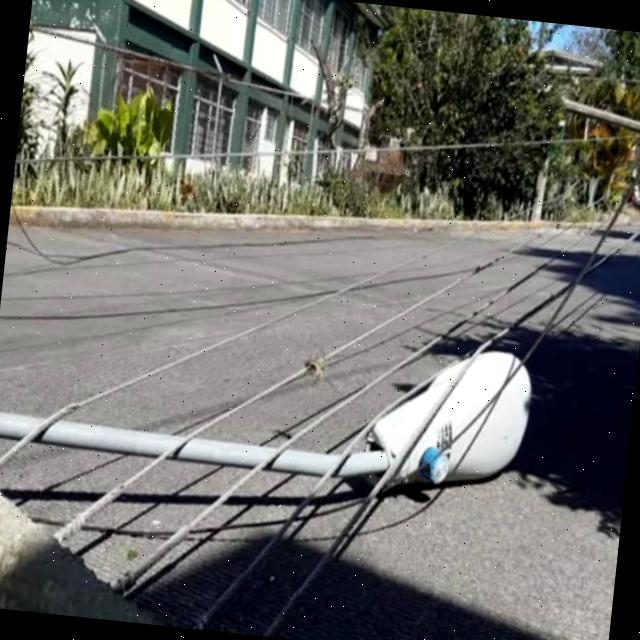Broken Pole: (0, 334, 546, 509)
